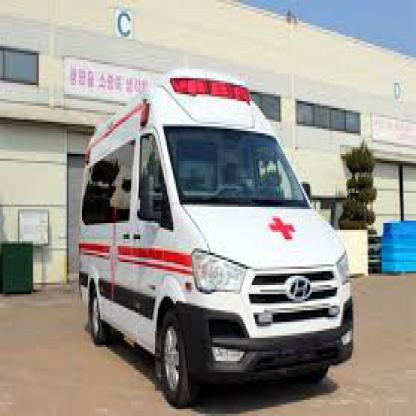Ambulance - v1 Ambulance last generate: (58, 67, 368, 398)
